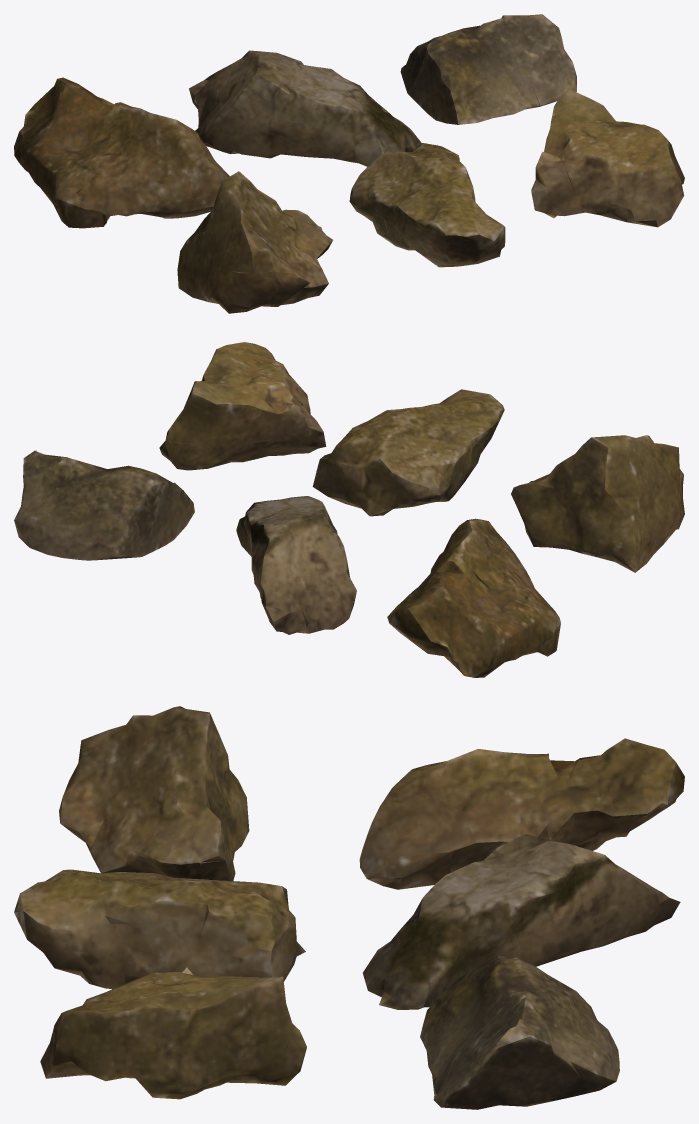
File: rock_moss.glb
3 views of the same model, one above another, from view 1: azimuth 30°, elevation 25°; view 2: azimuth 150°, elevation 25°; view 3: azimuth 270°, elevation 25° (orthographic). The views are drawn at different scales.
Parts seen in each view (by area): view 1: mesh; view 2: mesh; view 3: mesh.
Part boxes in pixels (<box>): mesh: <box>14,14,684,313</box>; mesh: <box>14,342,684,677</box>; mesh: <box>14,706,684,1109</box>.
Size of the model in its own units: 1.64 by 0.3599 by 1.42.
Materials: 1 (1 with a texture image).
